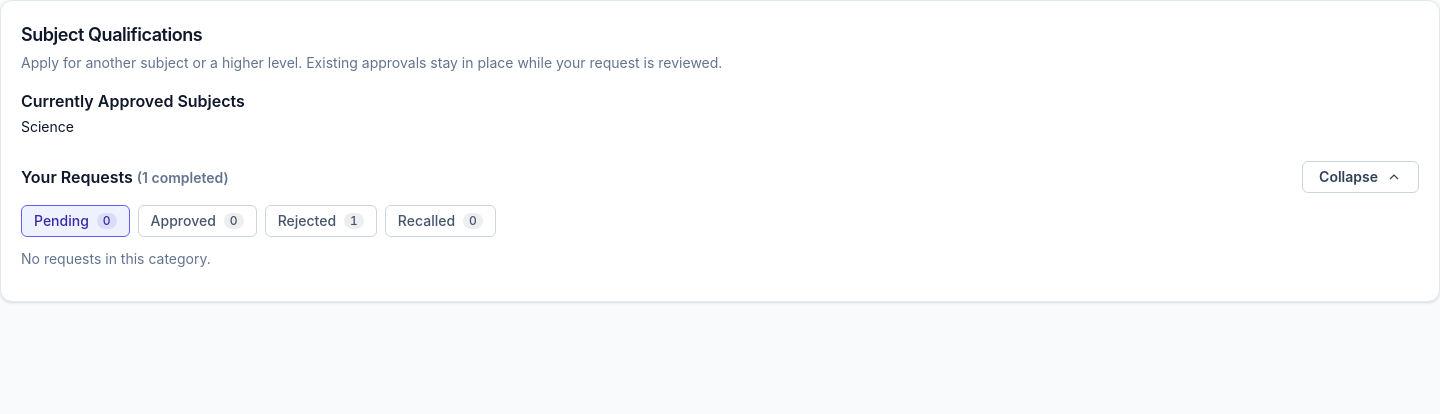
Test: retains history and approved subjects while inactive without exposing submission controls
Check: the text "Science" is shown, box [21,118,74,135]
What coordinates should you click on to do the following:
click the button "Rejected 1"
I would click on:
 (321, 221)
Its box is [265,205,377,237].
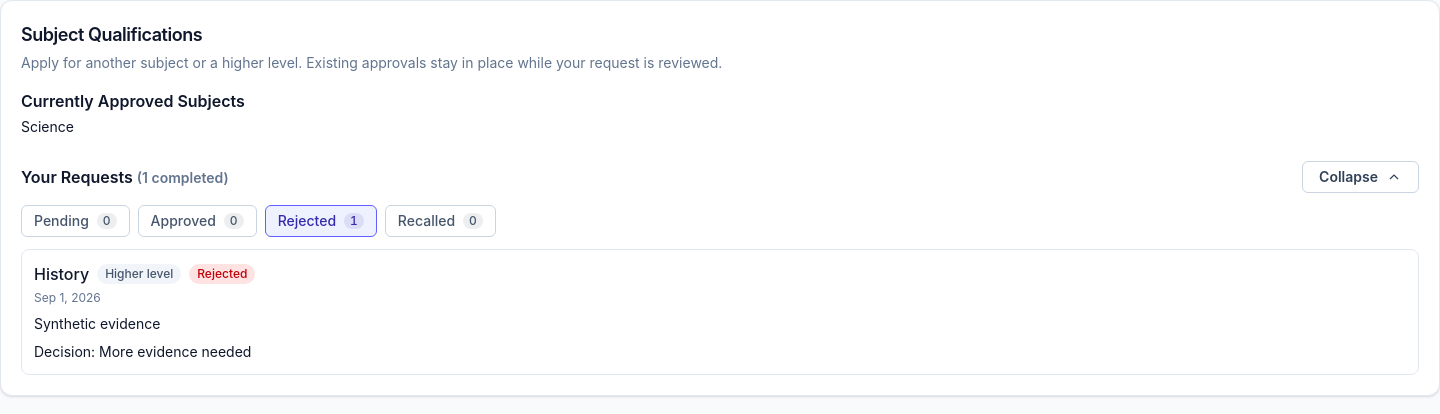
Check: the list item shows "Rejected", box [197,266,247,281]
